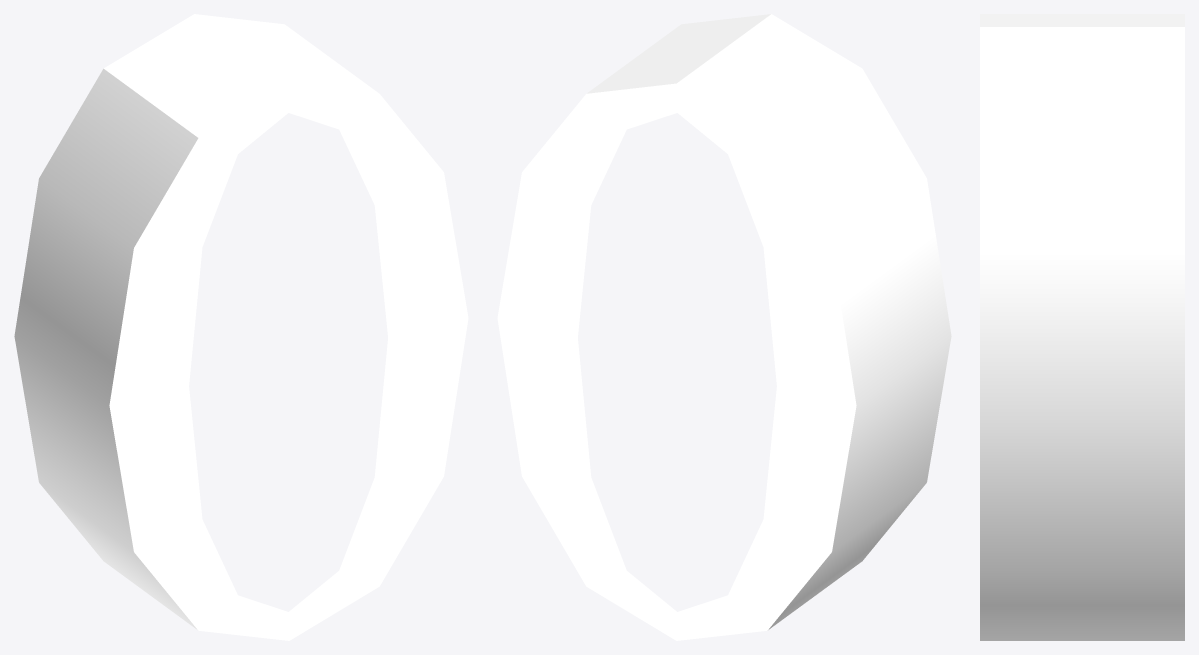
File: 1164375f-9aac-4543-ae86-de2a4108c02e.glb
3 views of the same model, side by side, from view 1: azimuth 30°, elevation 25°; view 2: azimuth 150°, elevation 25°; view 3: azimuth 270°, elevation 25° (orthographic). The views are drawn at different scales.
Visible parts, largest first — view 1: 0_Soul_White; view 2: 0_Soul_White; view 3: 0_Soul_White.
Boxes of the visible parts, x1,y1,x2,y2 form: 0_Soul_White: (14,14,468,640); 0_Soul_White: (497,14,951,640); 0_Soul_White: (980,14,1184,640).
Size of what is drawn, in the model's own units: 0.0982 by 0.1457 by 0.045.
Materials: 2 (2 with a texture image).
